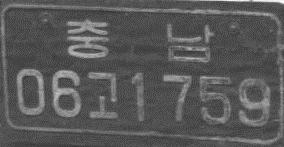0: (16, 67, 44, 116)
1: (125, 71, 156, 121)
5: (199, 76, 231, 126)
6: (51, 69, 81, 118)
7: (163, 73, 191, 122)
9: (237, 77, 271, 128)
고: (87, 70, 119, 120)
충남_D: (66, 18, 214, 64)
